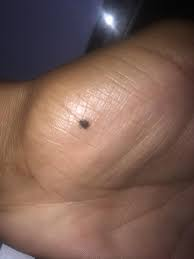melanoma: (58, 103, 105, 143)
